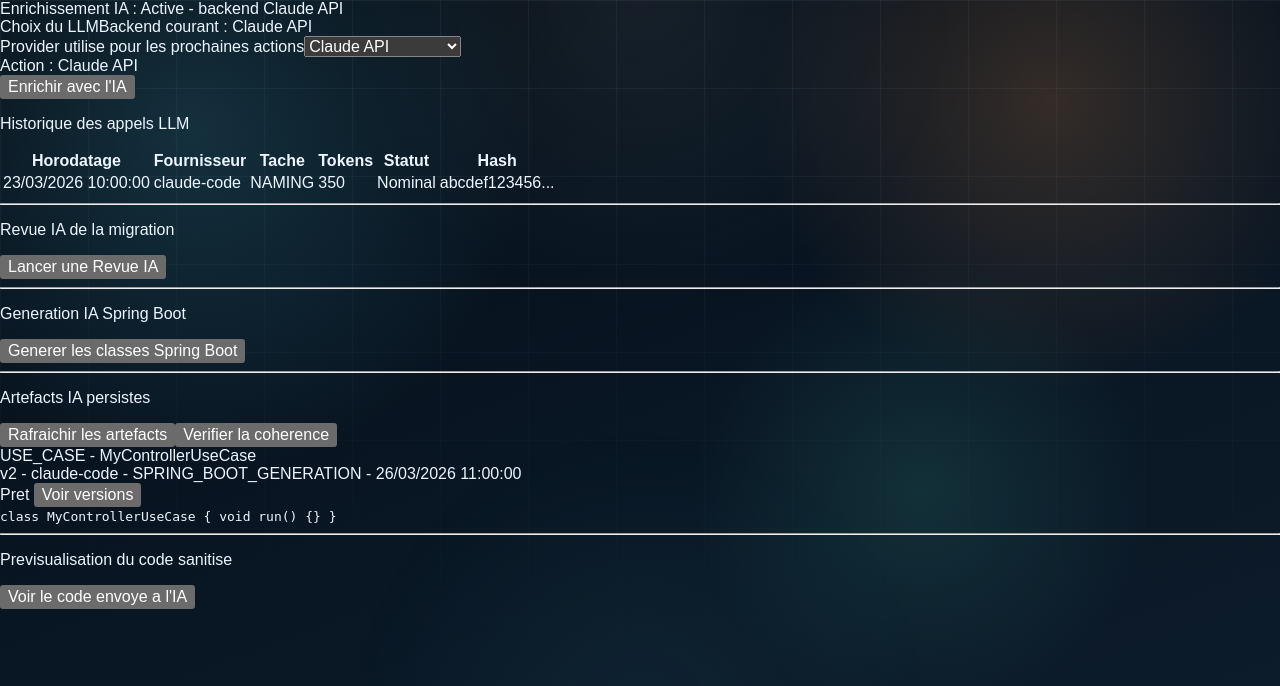
Test: AiEnrichmentViewComponent › should highlight incomplete persisted artifacts
Click the button "Rafraichir les artefacts": (88, 435) [0,423,175,447]
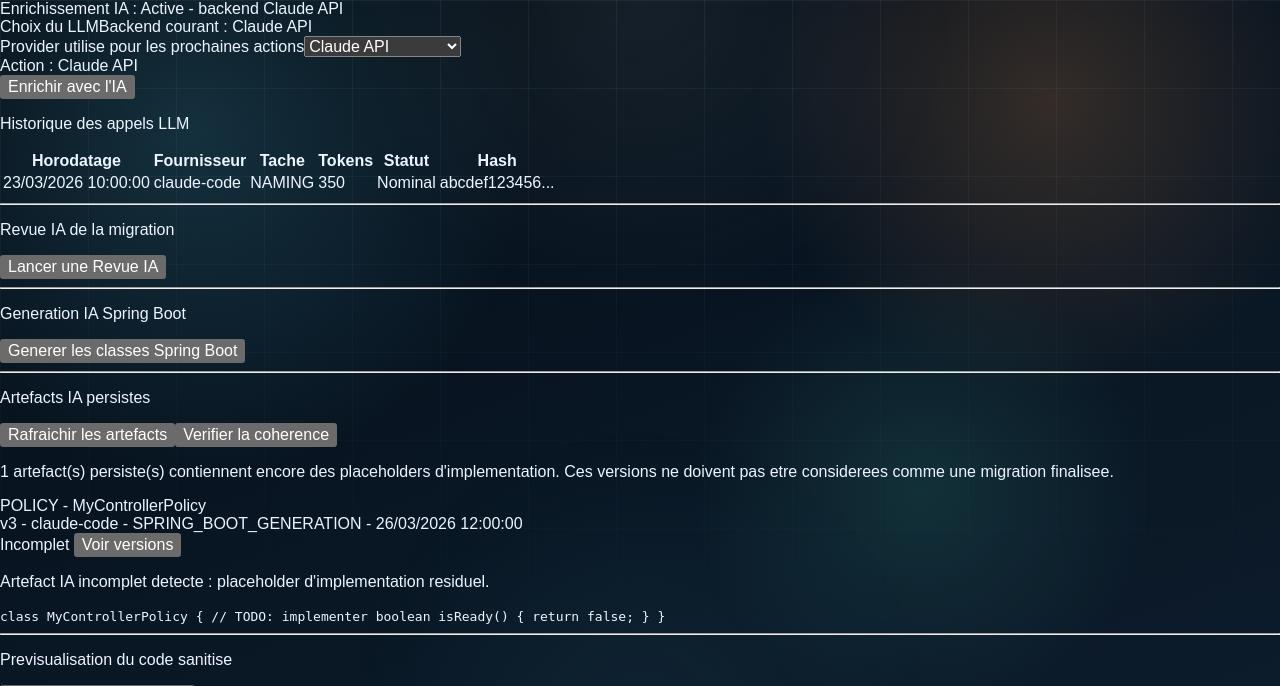
Check: the text "contiennent encore des placeholders d'implementation" is shown, box [0,463,1114,480]
Check: the text "Incomplet" is shown, box [0,536,74,553]
Check: the text "placeholder d'implementation residuel" is shown, box [0,573,490,590]
Click the button with class "tiny": (128, 545) [74,533,181,557]
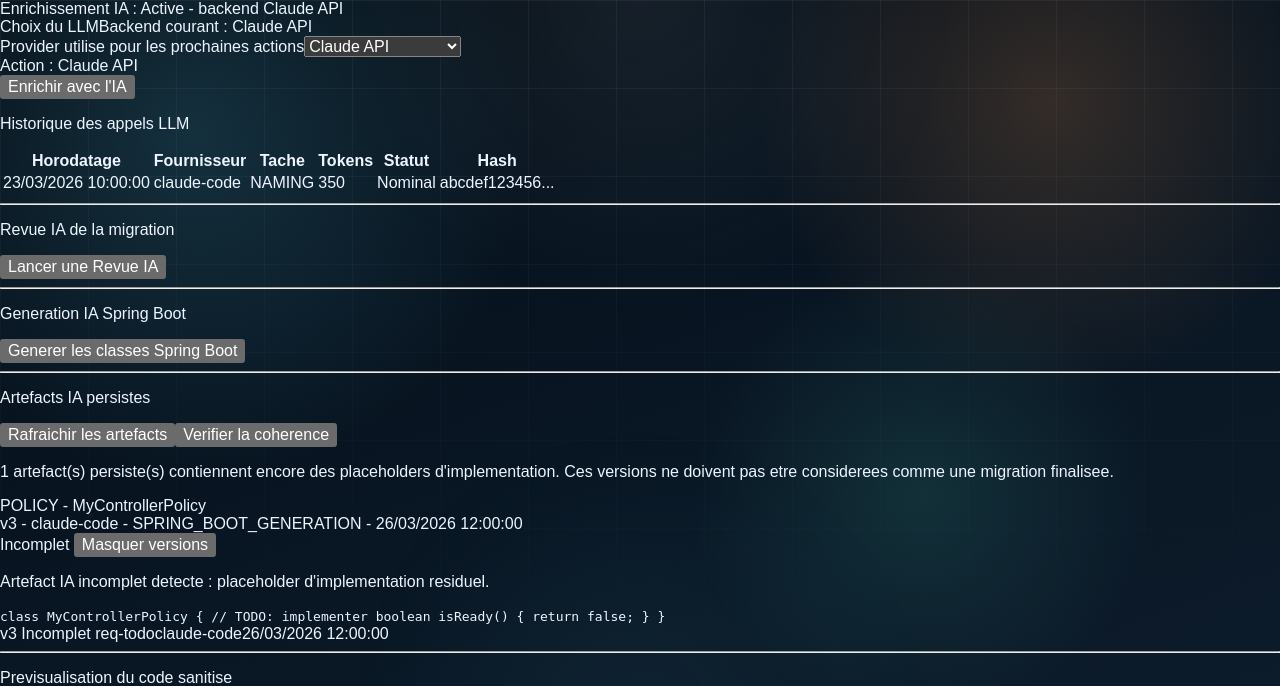
Check: the text "Incomplet" is shown, box [0,536,74,553]
Check: the text "req-todo" is shown, box [95,625,155,642]
